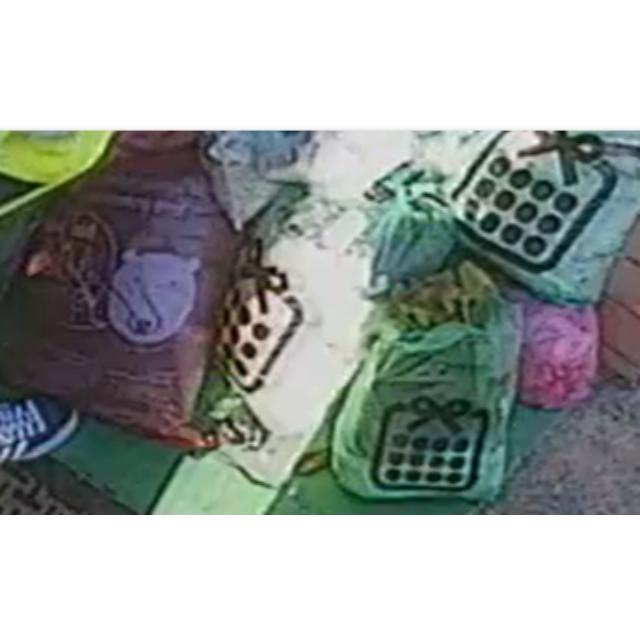general_trashbag: (198, 196, 372, 487), (331, 260, 518, 499), (451, 132, 640, 304)
other_trashbag: (0, 132, 241, 446)
